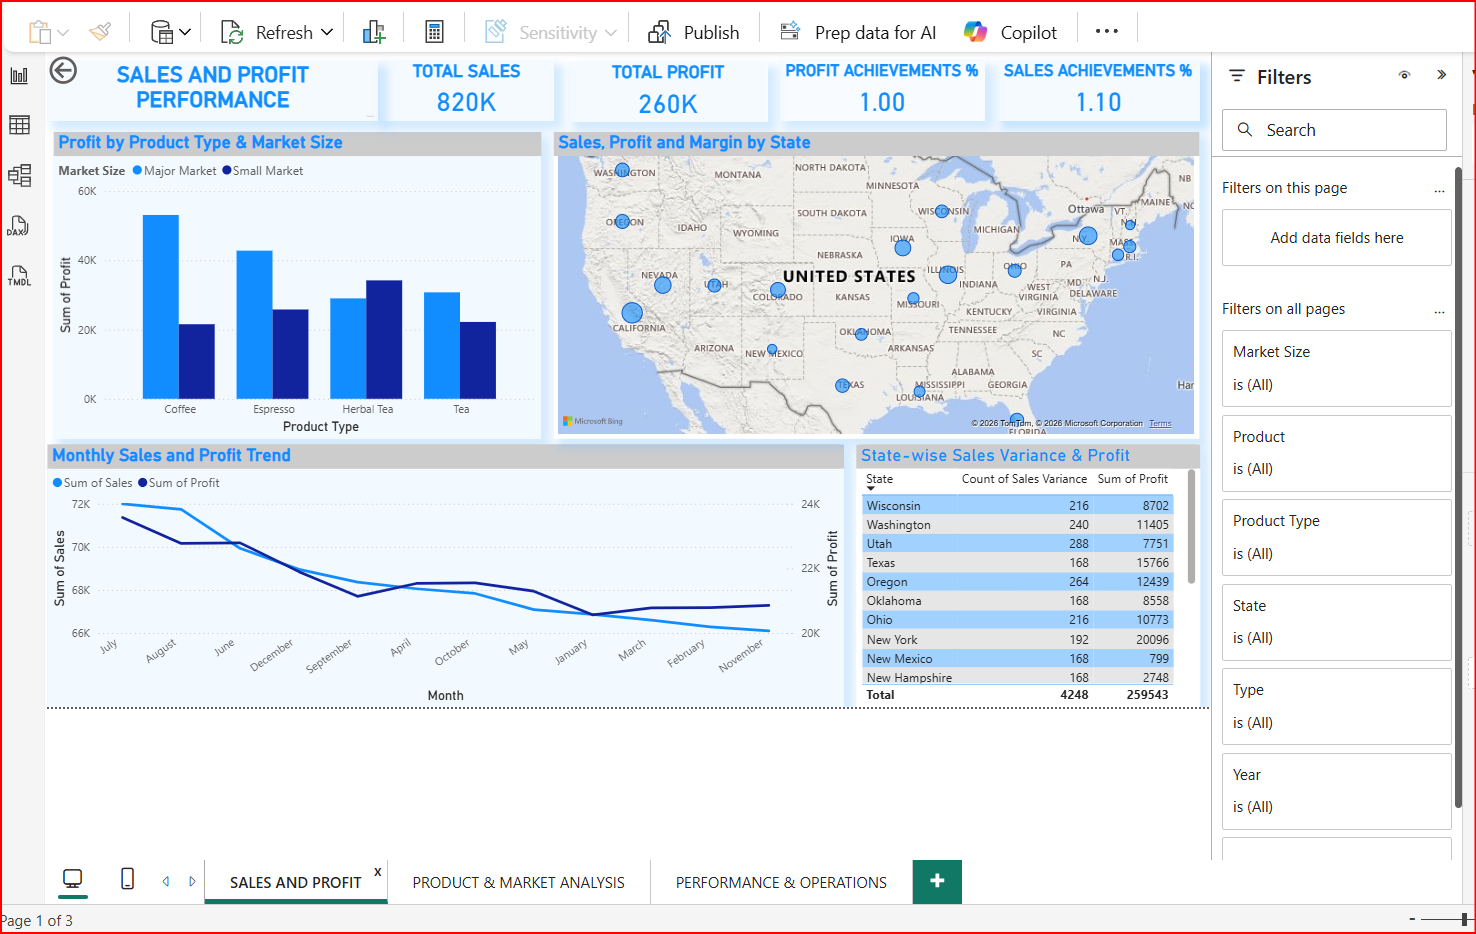

Layout of this report page (visuals, bound fields, positions):
{"tool":"powerbi","page":{"name":"SALES AND PROFIT","canvas":[1280,720],"ordinal":0},"visuals":[{"type":"clusteredColumnChart","title":"Profit by Product Type & Market Size","fields":{"Category":["cofee chain.Product Type"],"Y":["Sum(cofee chain.Profit)"],"Series":["cofee chain.Market Size"]},"box":[9.9,87.3,535.2,336.6],"z":0},{"type":"card","title":"SALES ACHIEVEMENTS %","fields":{"Values":["cofee chain.Sales Achievement %"]},"box":[1043.7,9.9,223.9,66.2],"z":1000},{"type":"lineChart","title":"Monthly Sales and Profit Trend","fields":{"Y":["Sum(cofee chain.Sales)"],"Category":["cofee chain.Month"],"Y2":["Sum(cofee chain.Profit)"]},"box":[2.8,431,874.6,288.7],"z":2000},{"type":"card","title":"TOTAL SALES","fields":{"Values":["Sum(cofee chain.Sales)"]},"box":[366.2,9.9,193,66.2],"z":3000},{"type":"card","title":"TOTAL PROFIT","fields":{"Values":["Sum(cofee chain.Profit)"]},"box":[574.6,11.3,218.3,66.2],"z":4000},{"type":"card","title":"PROFIT ACHIEVEMENTS %","fields":{"Values":["cofee chain.Profit Achievement %"]},"box":[805.6,9.9,226.8,66.2],"z":5000},{"type":"map","title":"Sales, Profit and Margin by State","fields":{"Category":["cofee chain.State"],"Size":["Sum(cofee chain.Sales)"]},"box":[559.2,87.3,708.5,336.6],"z":6000},{"type":"textbox","title":"SALES AND PROFIT PERFORMANCE","box":[2.8,11.3,363.4,64.8],"z":7000},{"type":"tableEx","title":"State-wise Sales Variance & Profit","fields":{"Values":["cofee chain.State","CountNonNull(cofee chain.Sales Variance)","Sum(cofee chain.Profit)"]},"box":[890.1,431,377.5,288.7],"z":8000},{"type":"actionButton","box":[0,0,100,40],"z":9000}]}

Visuals, with their boxes on the page's 1280x720 design canvas (x1, y1, x2, y2). These are canvas units, not pixel positions in the 1476x934 screenshot, which may show the page scaled, cropped or inside an application window:
"Profit by Product Type & Market Size" clusteredColumnChart: box(10, 87, 545, 424)
"SALES ACHIEVEMENTS %" card: box(1044, 10, 1268, 76)
"Monthly Sales and Profit Trend" lineChart: box(3, 431, 877, 720)
"TOTAL SALES" card: box(366, 10, 559, 76)
"TOTAL PROFIT" card: box(575, 11, 793, 78)
"PROFIT ACHIEVEMENTS %" card: box(806, 10, 1032, 76)
"Sales, Profit and Margin by State" map: box(559, 87, 1268, 424)
"SALES AND PROFIT PERFORMANCE" textbox: box(3, 11, 366, 76)
"State-wise Sales Variance & Profit" tableEx: box(890, 431, 1268, 720)
actionButton: box(0, 0, 100, 40)
